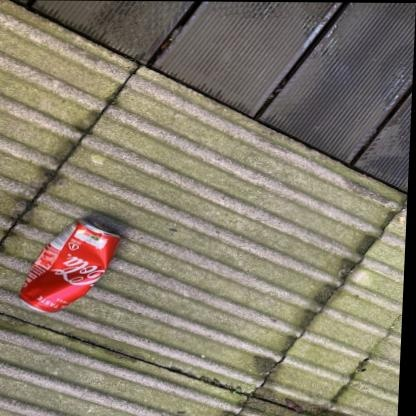trash: (19, 221, 119, 311)
